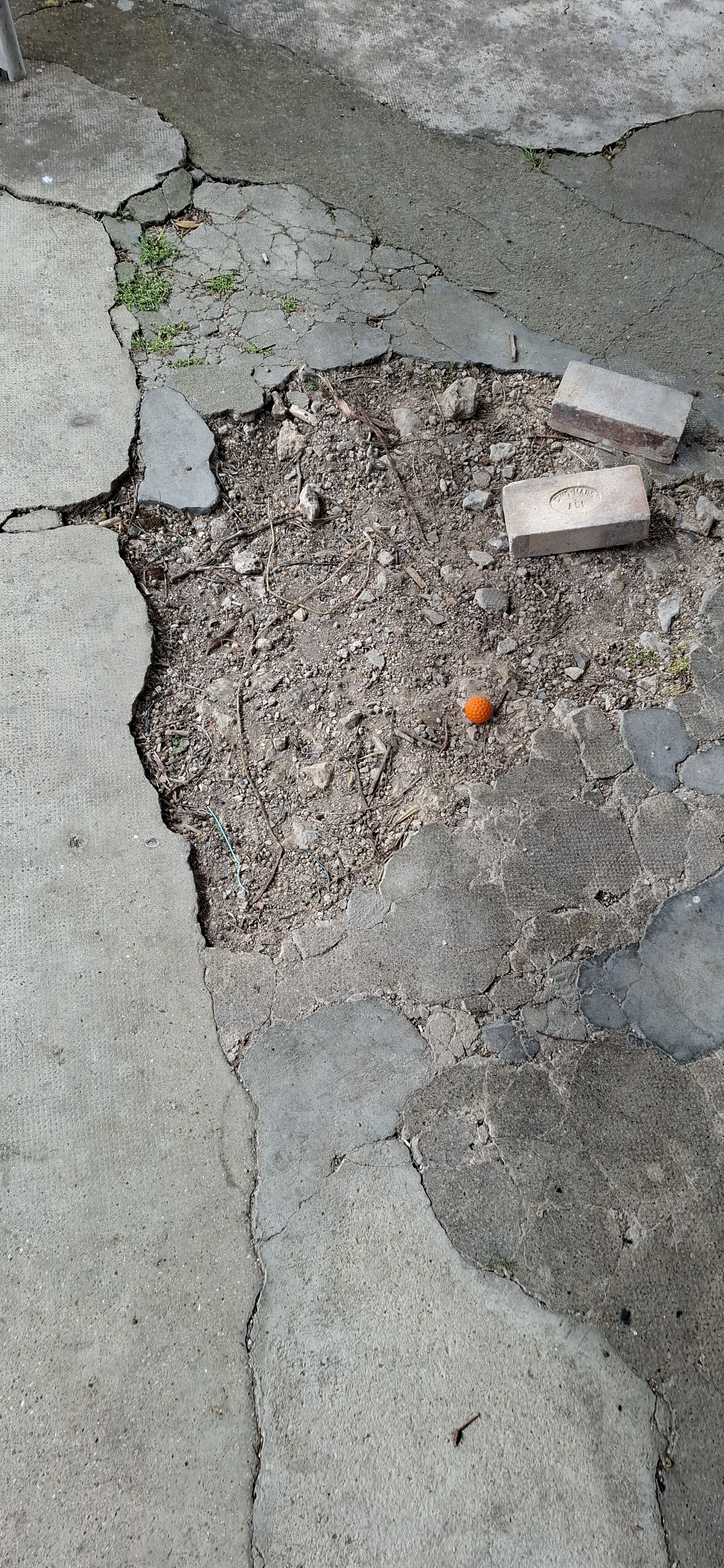ball: (321, 499, 334, 563)
